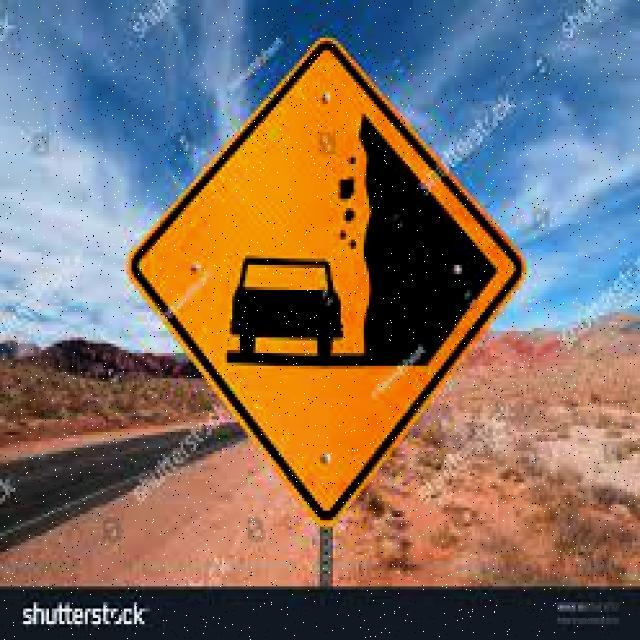Traffic sign: (124, 34, 530, 532)
